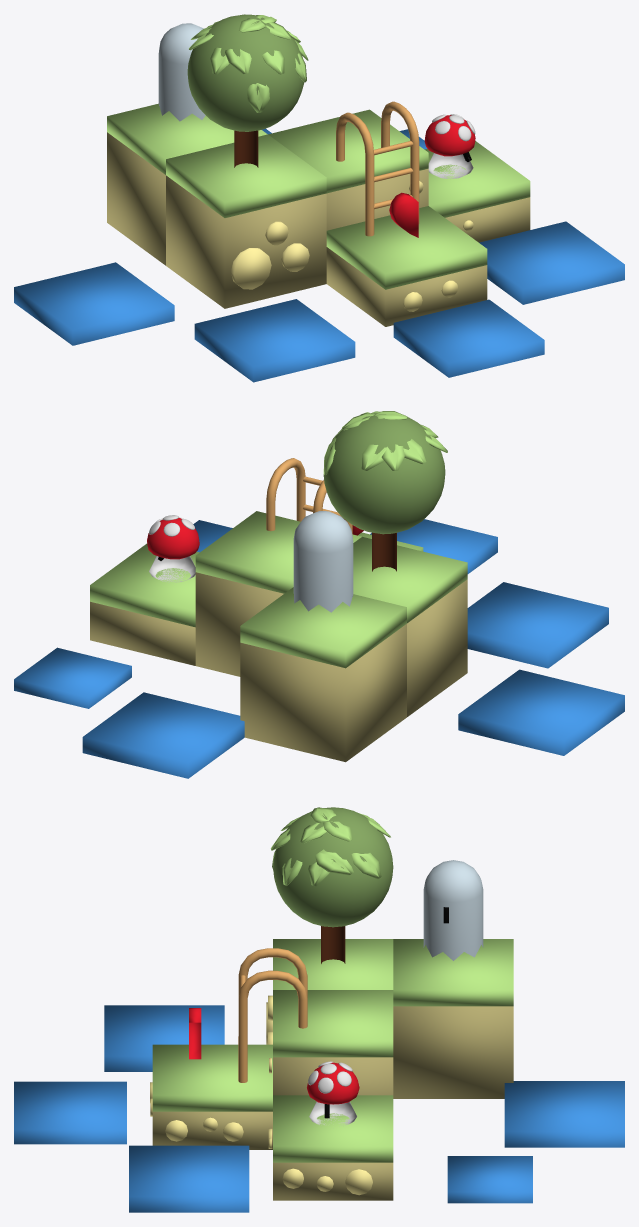
3 renders of one model, top to bottom at view 1: azimuth 30°, elevation 25°; view 2: azimuth 150°, elevation 25°; view 3: azimuth 270°, elevation 25°, orthographic. The views are drawn at different scales.
Parts seen in each view (by area): view 1: Cube, Cube.004, Cube.001, Roundcube.008, Cube.002, Plane.016, Plane.017, Plane.019, Plane.021, Cube.003, Plane.015, Roundcube.007 (+7 smaller); view 2: Cube.001, Cube, Cube.002, Roundcube.008, Cube.003, Plane.017, Plane.018, Plane.016, Roundcube.007, Plane.020, Plane.021, Plane.015 (+4 smaller); view 3: Cube.001, Cube.002, Cube.004, Cube.003, Roundcube.008, Plane.019, Plane.018, Plane.021, Plane.016, Roundcube.007, Cube, Plane.020 (+7 smaller).
Part boxes in pixels (<box>): Cube: <box>166,134,326,308</box>; Cube.004: <box>326,206,487,326</box>; Cube.001: <box>107,103,267,265</box>; Roundcube.008: <box>187,14,304,131</box>; Cube.002: <box>268,109,428,230</box>; Plane.016: <box>194,299,355,382</box>; Plane.017: <box>14,262,174,345</box>; Plane.019: <box>479,221,624,304</box>; Plane.021: <box>393,299,544,377</box>; Cube.003: <box>424,141,530,242</box>; Plane.015: <box>336,101,419,236</box>; Roundcube.007: <box>158,23,205,121</box>; Cube.001: <box>240,587,406,762</box>; Cube: <box>353,536,467,716</box>; Cube.002: <box>195,511,361,676</box>; Roundcube.008: <box>323,413,445,534</box>; Cube.003: <box>90,543,199,665</box>; Plane.017: <box>458,669,624,755</box>; Plane.018: <box>82,692,244,778</box>; Plane.016: <box>467,582,608,668</box>; Roundcube.007: <box>293,511,353,612</box>; Plane.020: <box>14,647,131,708</box>; Plane.021: <box>370,519,497,573</box>; Plane.015: <box>266,458,352,533</box>; Cube.001: <box>393,939,513,1098</box>; Cube.002: <box>273,990,393,1095</box>; Cube.004: <box>152,1044,272,1149</box>; Cube.003: <box>273,1095,393,1200</box>; Roundcube.008: <box>273,807,393,927</box>; Plane.019: <box>129,1145,249,1212</box>; Plane.018: <box>504,1081,624,1147</box>; Plane.021: <box>14,1081,126,1144</box>; Plane.016: <box>104,1005,224,1071</box>; Roundcube.007: <box>423,860,483,960</box>; Cube: <box>273,939,393,989</box>; Plane.020: <box>447,1156,532,1203</box>.
Size of what is drawn, in the model's own units: 9.45 by 4.8 by 10.16.
